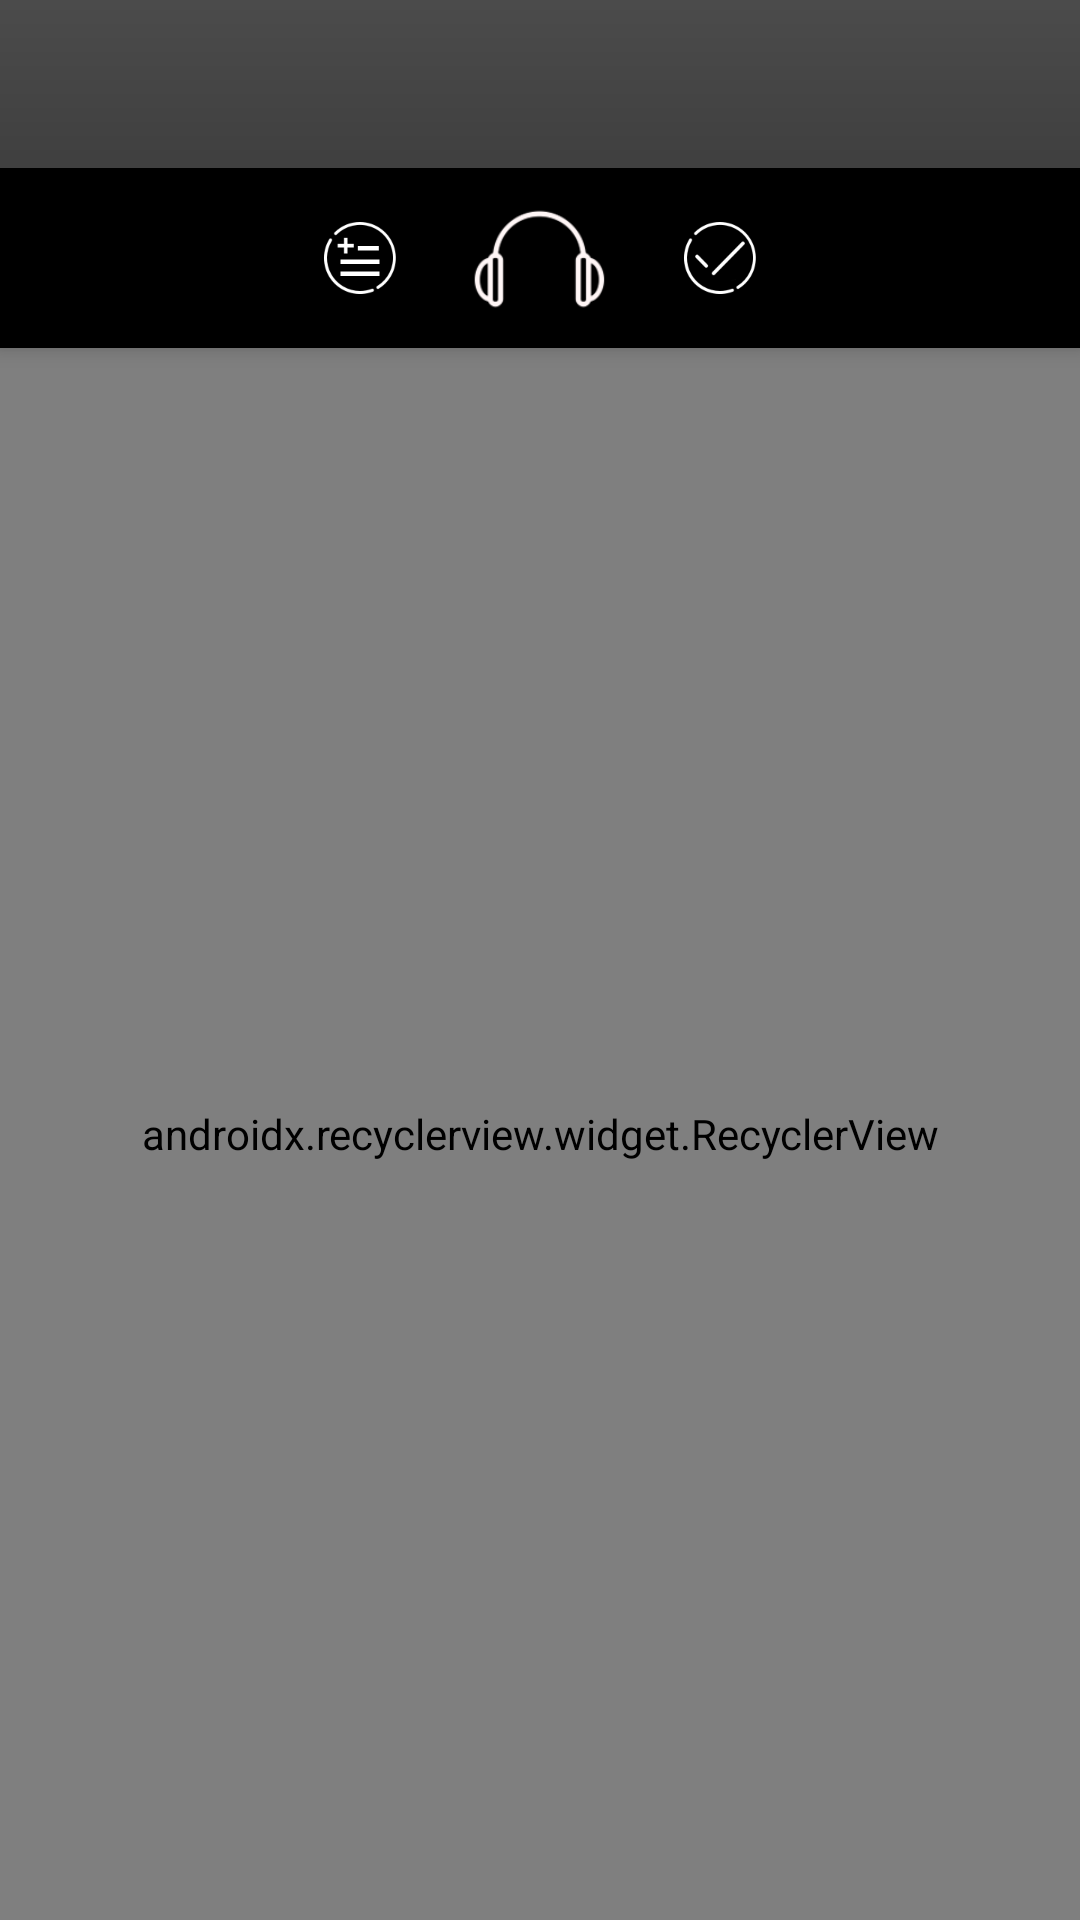

Icon bounding boxes for this 1080w x 1920h phone screenshot, format (x1, y1, x2, y2):
headphone: (474, 210, 605, 308)
save playlist: (324, 222, 396, 294)
select music: (684, 222, 756, 294)
